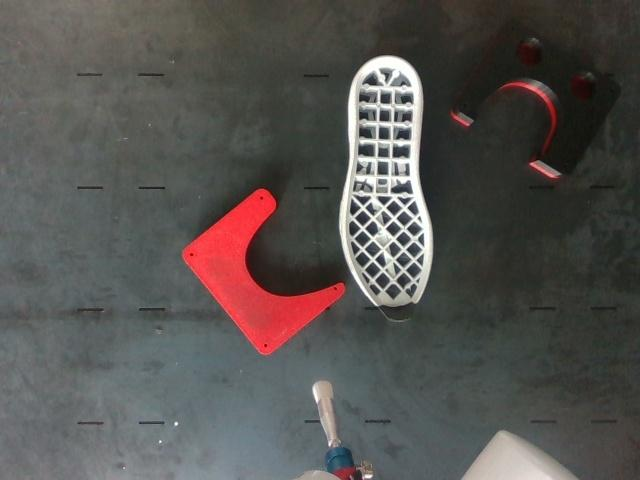shoes: (346, 58, 430, 322)
